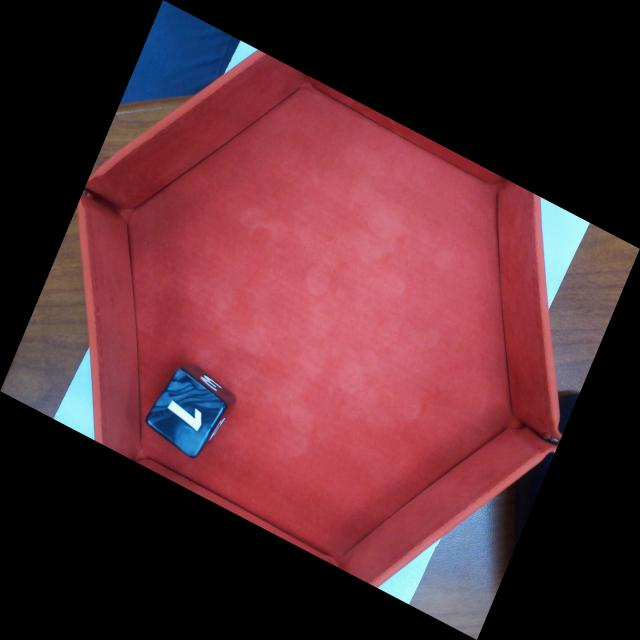dice: (147, 368, 229, 460)
